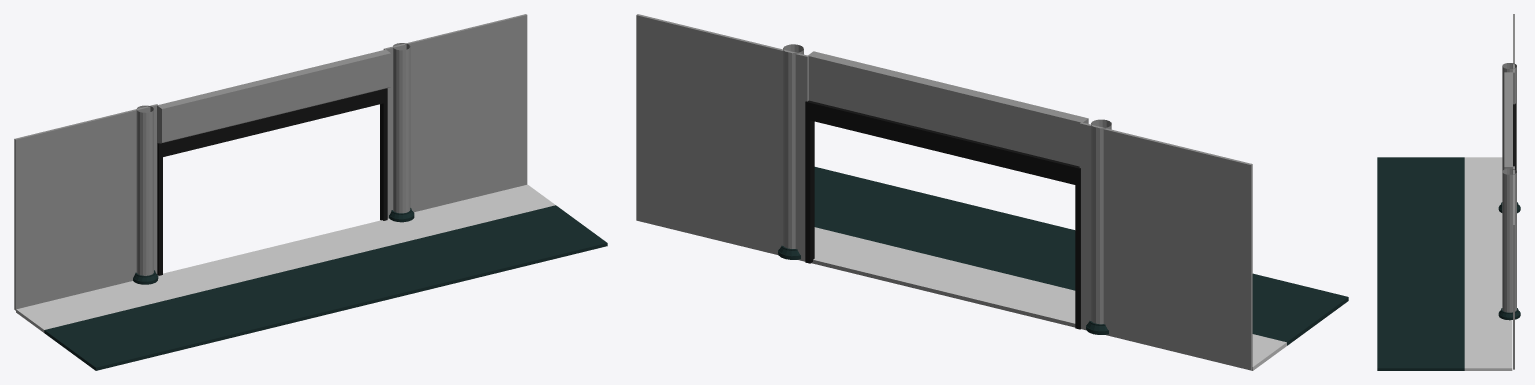
Rendered from SM_storefront_mall.fbx.
3 renders of one model, left to right at view 1: azimuth 30°, elevation 25°; view 2: azimuth 150°, elevation 25°; view 3: azimuth 270°, elevation 25°, orthographic. The views are drawn at different scales.
Parts seen in each view (by area): view 1: storefront_mall; view 2: storefront_mall; view 3: storefront_mall.
Part boxes in pixels (x1,y1,x2,y2): storefront_mall: (14,14,607,370); storefront_mall: (636,14,1348,370); storefront_mall: (1377,14,1520,370).
Bounding box in the file's own units: 1000 × 324 × 287.
